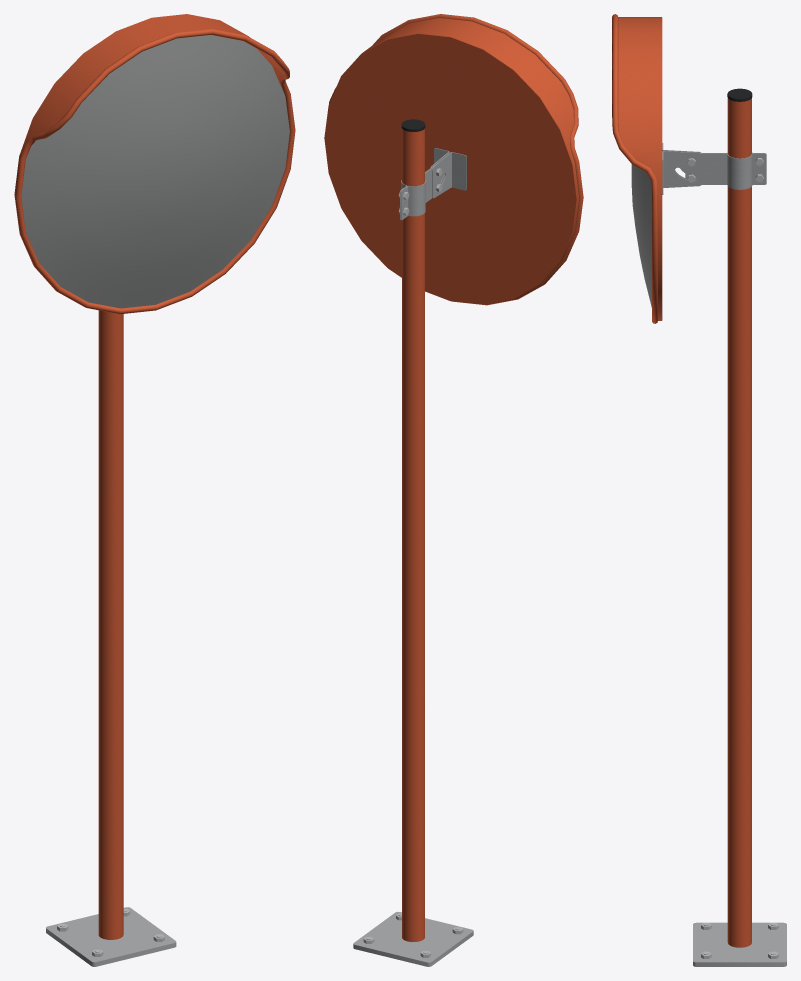
File: SM05_Safety_SafetyMirror_01.fbx
3 views of the same model, side by side, from view 1: azimuth 30°, elevation 25°; view 2: azimuth 150°, elevation 25°; view 3: azimuth 270°, elevation 25° (orthographic). The views are drawn at different scales.
Parts seen in each view (by area): view 1: SM05_Safety_SafetyMirror_01_Mirror, SM05_Safety_SafetyMirror_01_Stand; view 2: SM05_Safety_SafetyMirror_01_Mirror, SM05_Safety_SafetyMirror_01_Stand; view 3: SM05_Safety_SafetyMirror_01_Stand, SM05_Safety_SafetyMirror_01_Mirror.
Boxes of the visible parts, x1,y1,x2,y2 form: SM05_Safety_SafetyMirror_01_Mirror: (14, 14, 295, 314); SM05_Safety_SafetyMirror_01_Stand: (46, 310, 176, 966); SM05_Safety_SafetyMirror_01_Mirror: (324, 14, 583, 305); SM05_Safety_SafetyMirror_01_Stand: (353, 119, 473, 966); SM05_Safety_SafetyMirror_01_Stand: (685, 88, 786, 966); SM05_Safety_SafetyMirror_01_Mirror: (612, 14, 702, 323).
Bounding box in the file's own units: 0.9942 × 3.24 × 0.5586.
